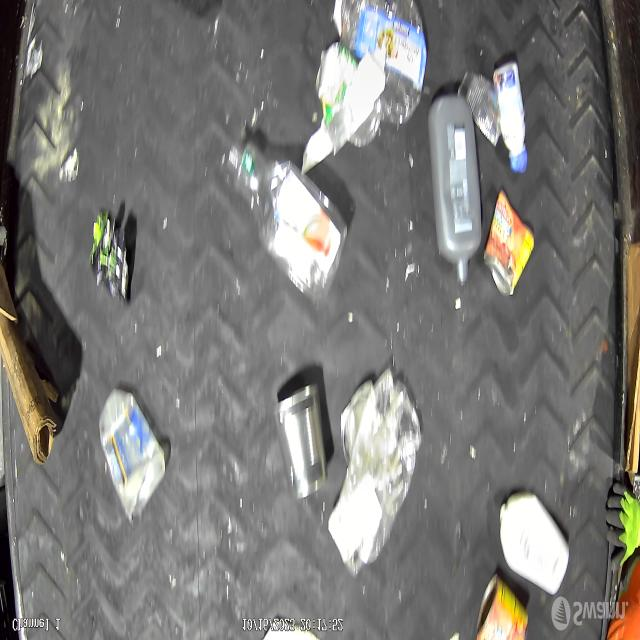can: (278, 376, 326, 508), (481, 196, 537, 299), (464, 577, 534, 640), (458, 74, 508, 145)
non_white_jug: (428, 92, 481, 285)
plastic_bottle: (225, 139, 348, 307), (331, 0, 426, 126)
